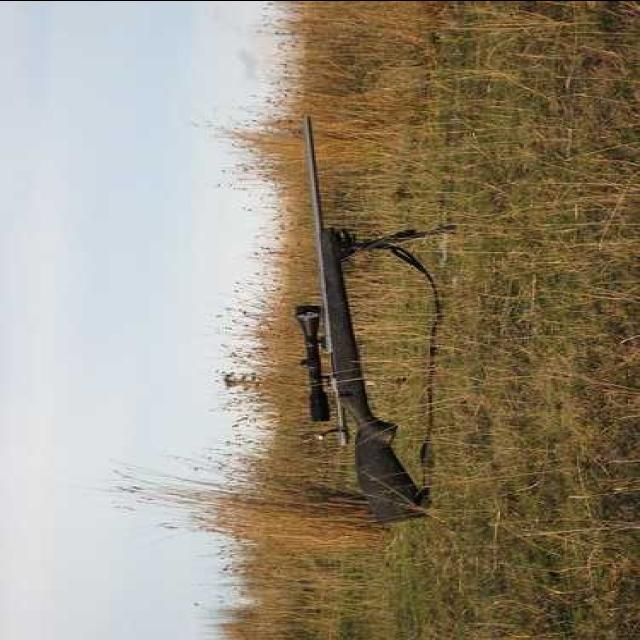heavyweapon: (262, 86, 486, 529)
